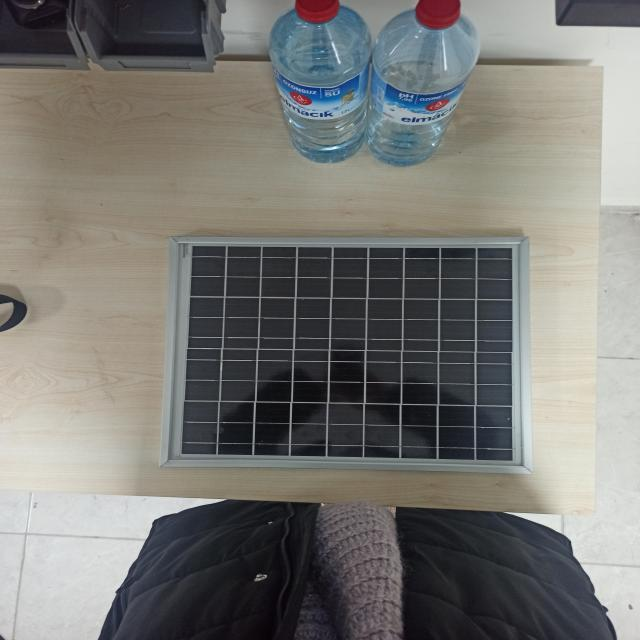no faulty: (176, 237, 520, 472)
